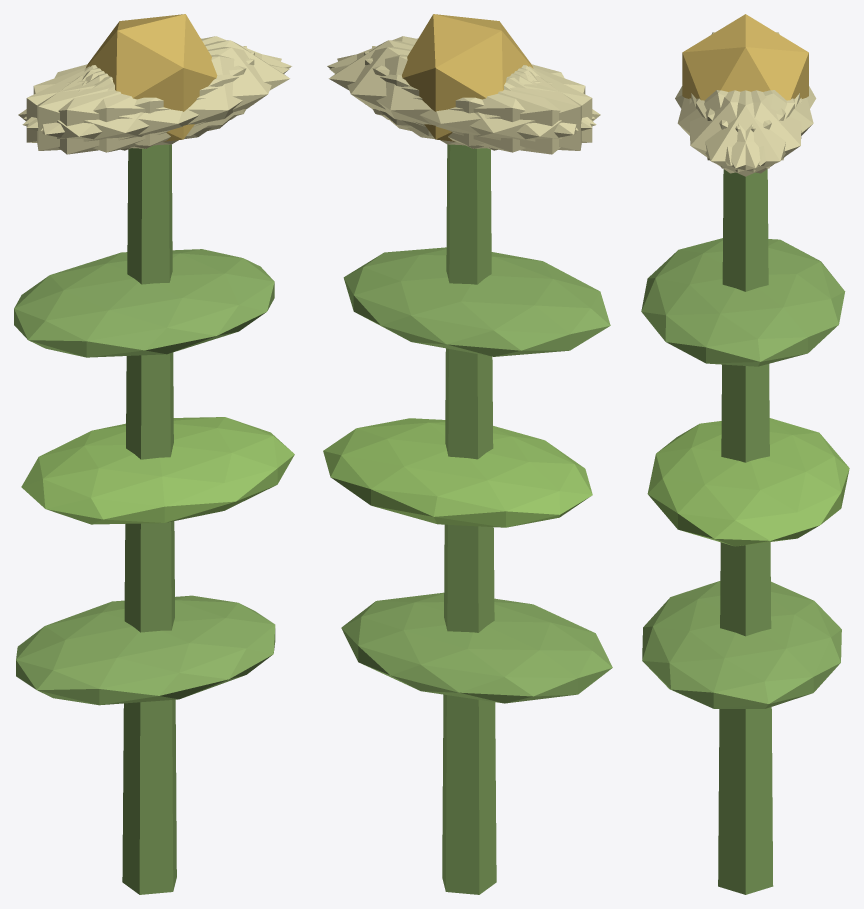
The model's file is artocarpus-elasticus.glb.
3 views of the same model, side by side, from view 1: azimuth 30°, elevation 25°; view 2: azimuth 150°, elevation 25°; view 3: azimuth 270°, elevation 25° (orthographic).
Parts seen in each view (by area): view 1: stem, leaf2, leaf0, leaf1, center, petal1, petal6, petal2, petal5, petal7, petal0, petal4 (+2 smaller); view 2: stem, leaf1, leaf2, leaf0, center, petal8, petal3, petal7, petal4, petal2, petal0, petal5 (+1 smaller); view 3: stem, leaf1, leaf2, leaf0, center, petal0, petal4, petal5, petal1, petal8.
Part boxes in pixels (<box>): stem: <box>122,144,176,894</box>; leaf2: <box>14,249,274,357</box>; leaf0: <box>16,595,275,705</box>; leaf1: <box>21,417,294,524</box>; center: <box>85,14,217,141</box>; petal1: <box>22,54,289,152</box>; petal6: <box>18,66,211,154</box>; petal2: <box>37,46,246,150</box>; petal5: <box>40,47,281,145</box>; petal7: <box>26,51,254,148</box>; petal0: <box>85,40,289,136</box>; petal4: <box>23,36,291,128</box>; stem: <box>442,144,496,894</box>; leaf1: <box>323,418,592,527</box>; leaf2: <box>343,247,610,356</box>; leaf0: <box>341,592,612,703</box>; center: <box>402,14,533,141</box>; petal8: <box>329,54,596,152</box>; petal3: <box>407,66,600,154</box>; petal7: <box>372,46,581,150</box>; petal4: <box>337,47,578,145</box>; petal2: <box>364,51,592,148</box>; petal0: <box>329,40,533,136</box>; petal5: <box>327,36,595,128</box>; stem: <box>718,169,773,894</box>; leaf1: <box>647,418,849,546</box>; leaf2: <box>641,238,845,366</box>; leaf0: <box>642,581,841,708</box>; center: <box>682,14,808,100</box>; petal0: <box>691,90,799,176</box>; petal4: <box>696,90,801,173</box>; petal5: <box>689,90,794,173</box>; petal1: <box>677,90,785,165</box>; petal8: <box>705,90,813,165</box>.
Bounding box in the file's own units: 0.1486 × 0.4548 × 0.1008.
